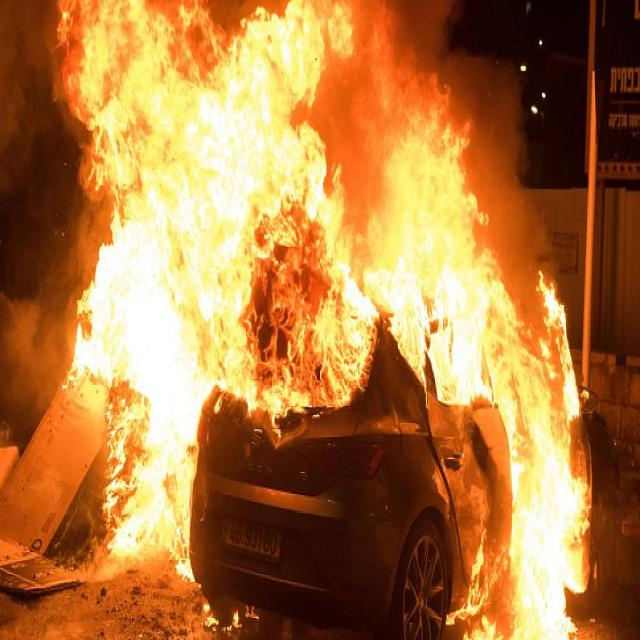fire: (99, 17, 368, 399), (493, 271, 594, 640), (382, 131, 486, 410), (105, 413, 201, 582)
